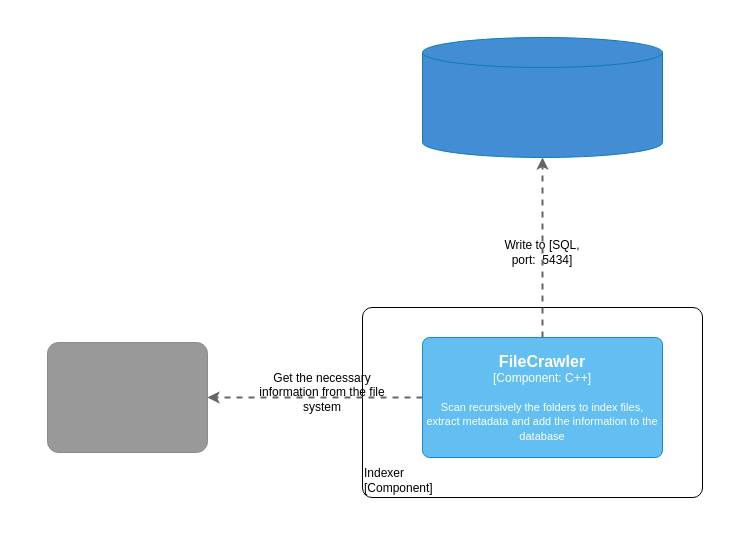
This 744x544 diagram has some shape labels left out. Each missing label, with the centre of its shape:
"Local File System [Software System] OS File System" goes at [127,397].
"Relational Database [Container: PostgreSQL] Stores files metadata" goes at [542,97].
